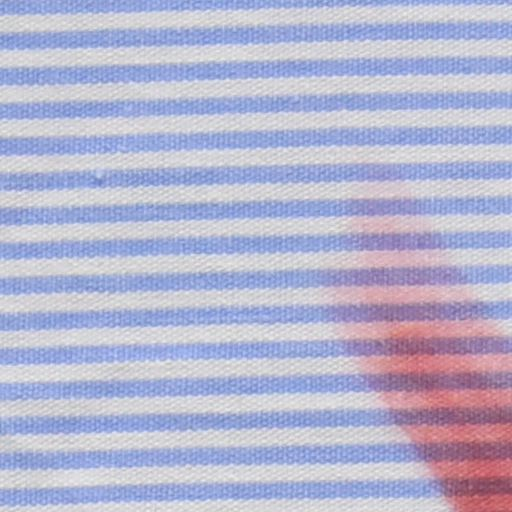defect: (329, 207, 512, 510)
